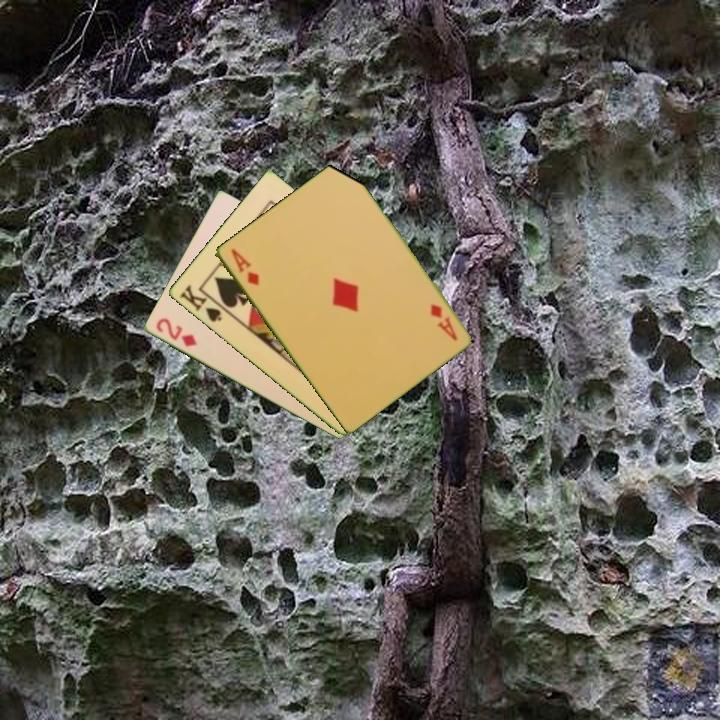2d: (152, 314, 199, 350)
Ad: (227, 245, 262, 289), (426, 300, 460, 344)
Ks: (176, 281, 230, 325)
